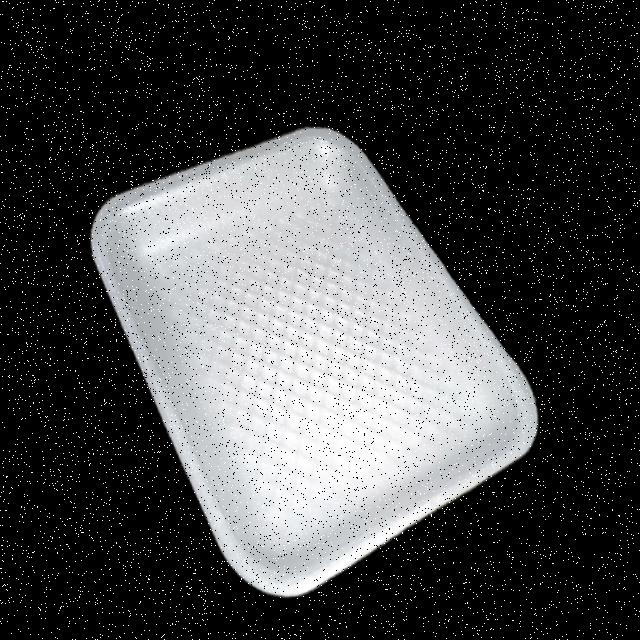foam: (46, 50, 587, 640)
